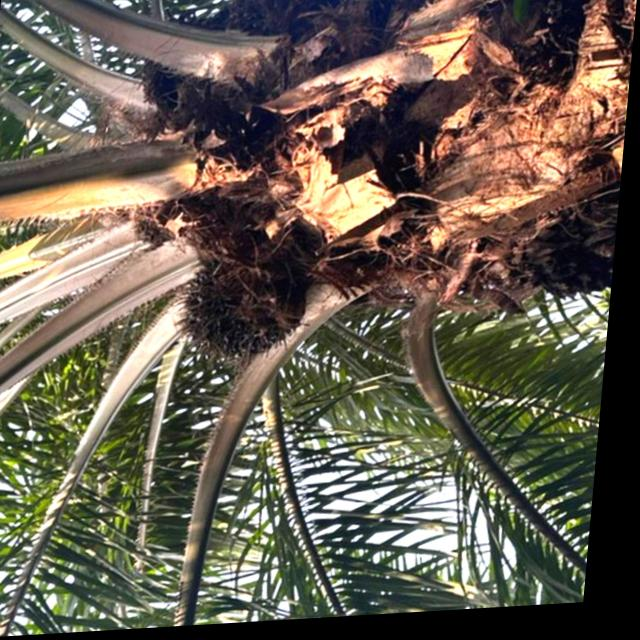unripe: (168, 243, 326, 387)
